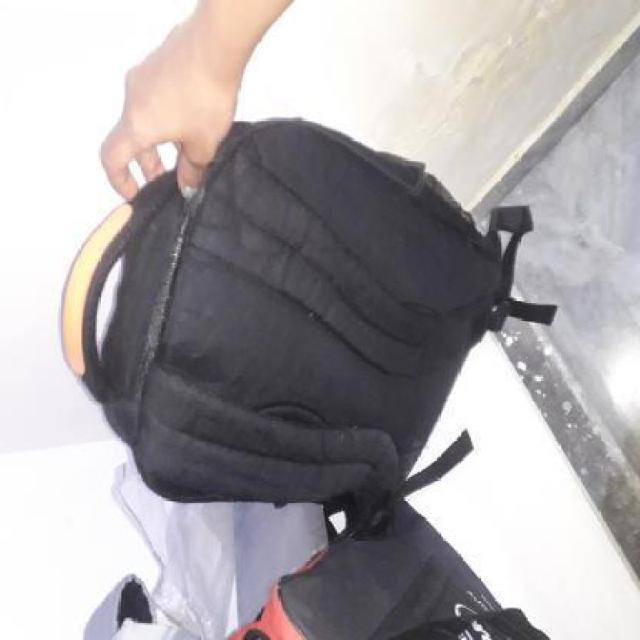backpack: (57, 110, 532, 542)
